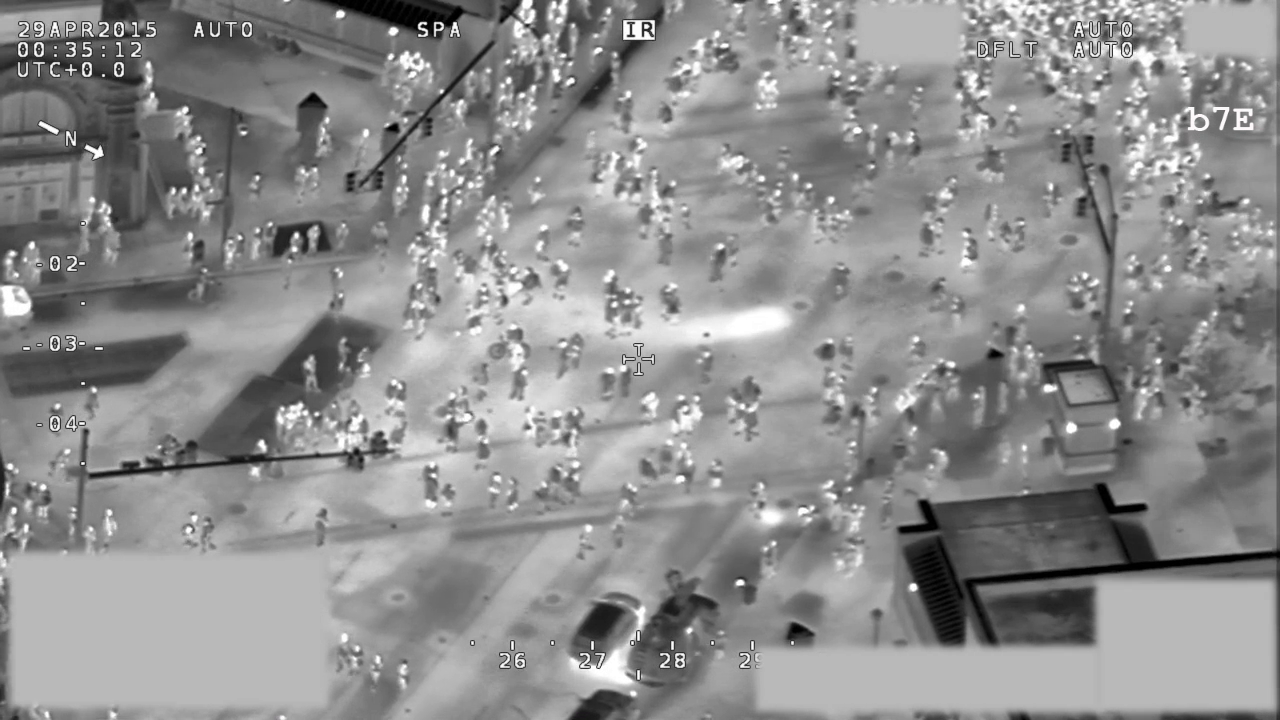vehicle: (621, 565, 730, 693), (565, 584, 649, 671)
